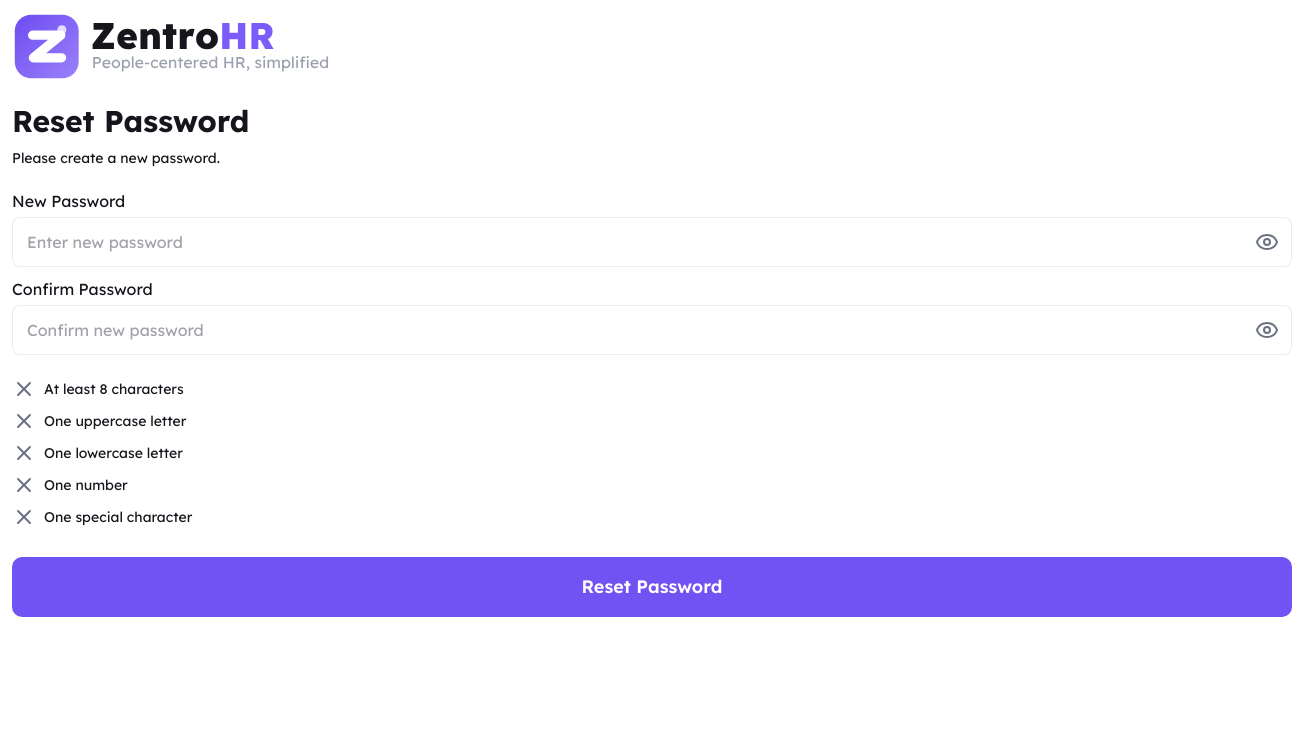
Test case: LoginPanel › reset-password step › shows validation errors when submitting empty fields
The width and height of the screenshot is (1304, 732).
Click the button "Reset Password" at [652, 587], box [12, 557, 1292, 617]
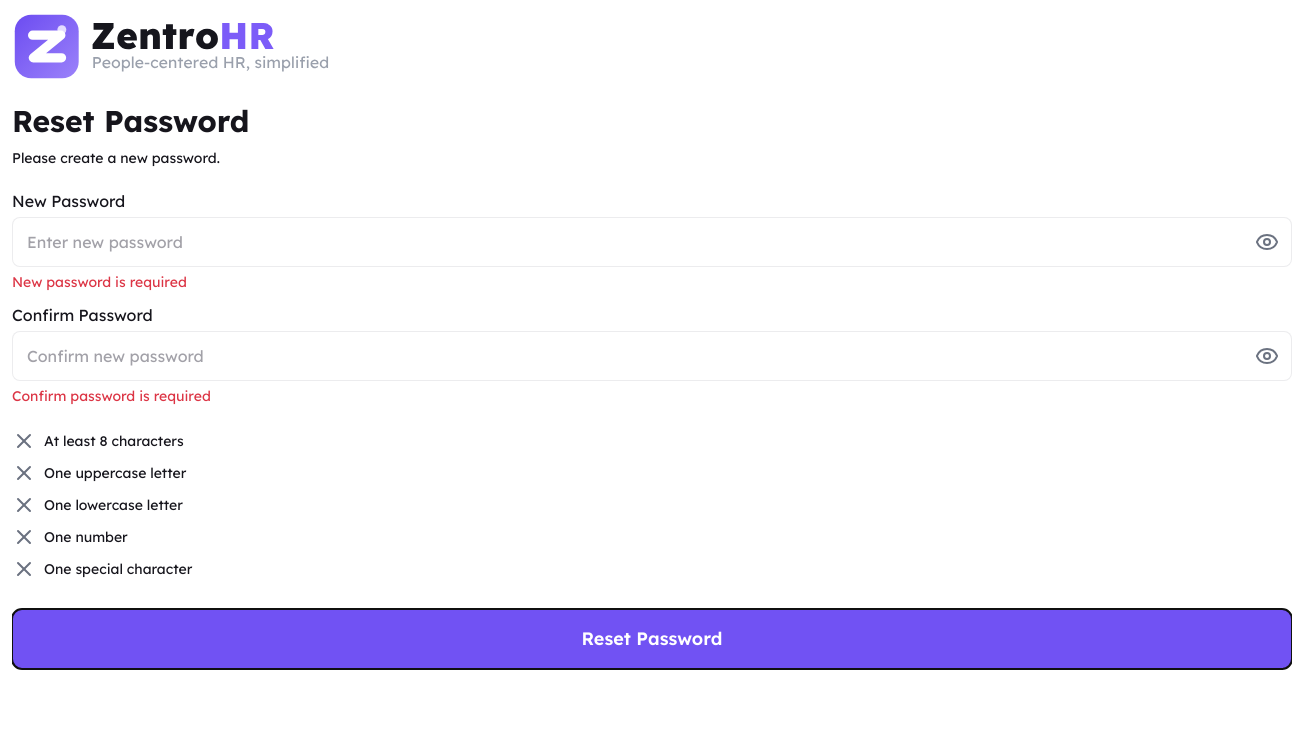
Check: the text "New password is required" is shown, box [12, 273, 187, 291]
Check: the text "Confirm password is required" is shown, box [12, 387, 211, 405]
